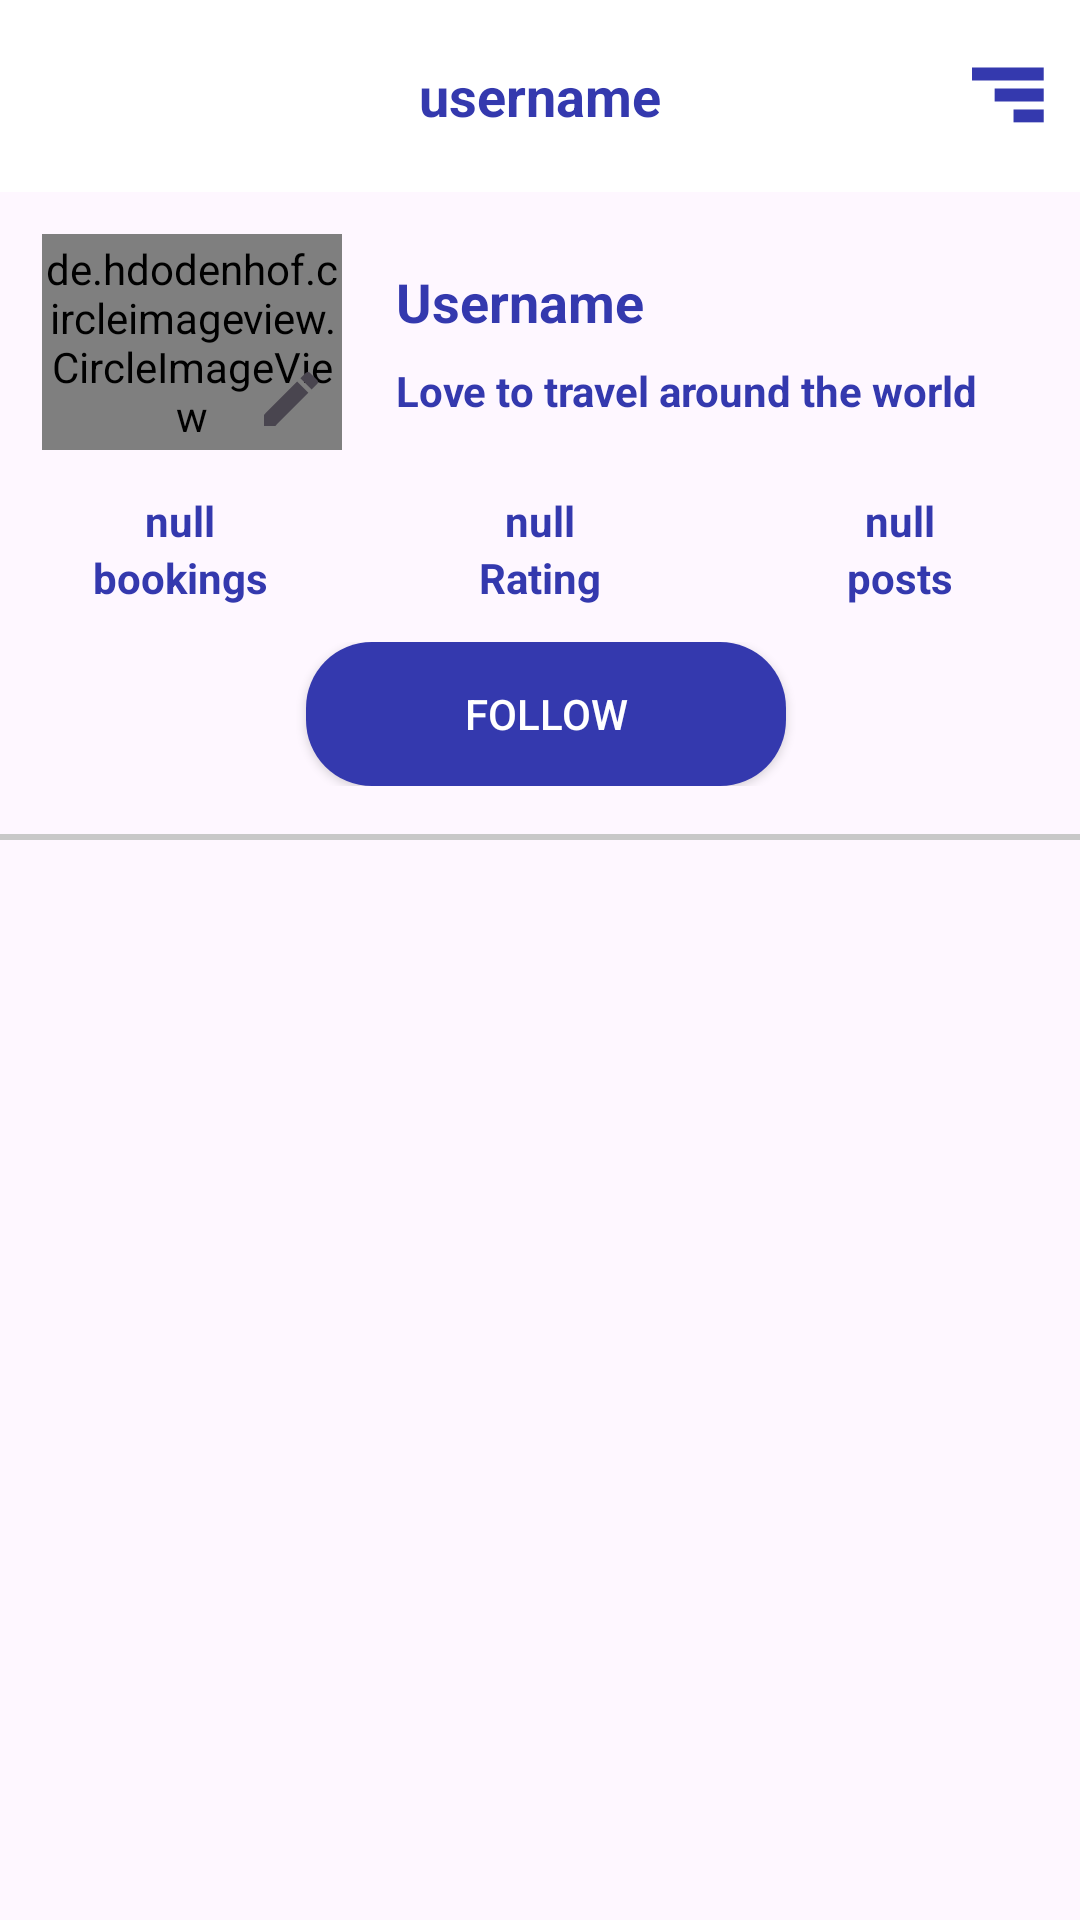

Point at icon controls on the screen. Image size 1080*1920, points as point (x, y).
menu: point (1008, 95)
